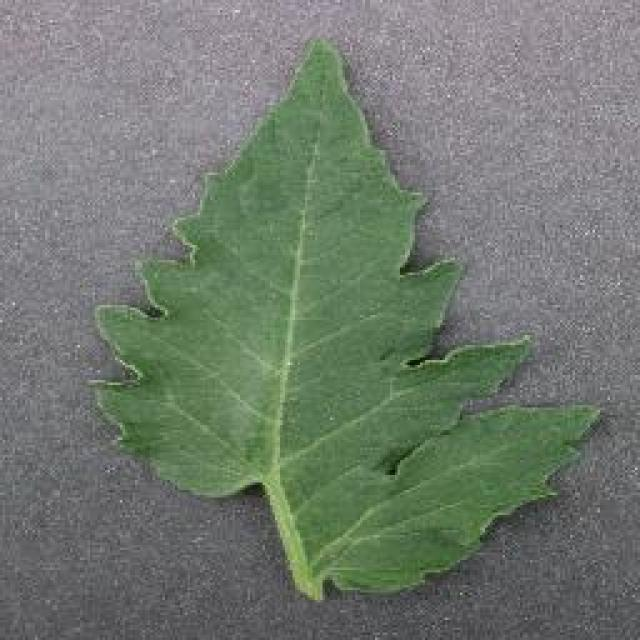healthy: (91, 38, 613, 605)
